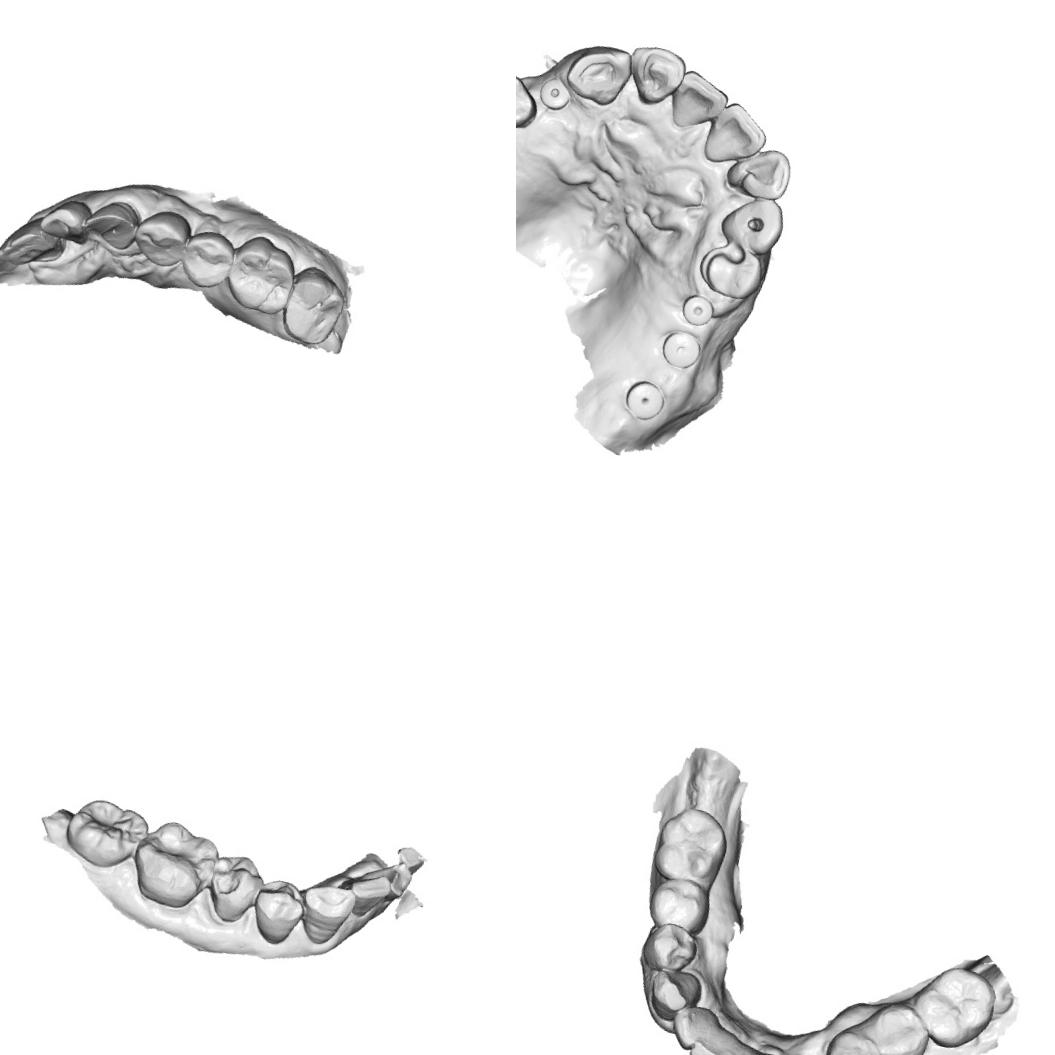canine: (560, 37, 637, 111), (714, 188, 790, 261), (293, 877, 360, 952), (639, 962, 703, 1028), (77, 192, 145, 253)
implant: (620, 376, 668, 426), (657, 326, 706, 372), (535, 73, 575, 114), (678, 291, 718, 330)
incisor: (700, 98, 773, 173), (722, 138, 797, 205), (621, 41, 690, 112), (667, 68, 732, 138), (0, 216, 68, 275), (349, 850, 417, 904), (335, 866, 395, 924), (664, 999, 721, 1055), (37, 194, 94, 245), (681, 1018, 734, 1055), (712, 1036, 761, 1055)
molar: (124, 813, 224, 916), (904, 956, 1002, 1055), (56, 787, 153, 879), (648, 800, 734, 890), (220, 230, 304, 320), (278, 260, 352, 350), (861, 995, 938, 1055), (644, 870, 712, 935)
premolar: (200, 847, 269, 932), (244, 872, 312, 950), (694, 238, 768, 304), (128, 203, 196, 272), (636, 917, 703, 980), (176, 225, 238, 293), (818, 1024, 889, 1055), (516, 68, 545, 134)
